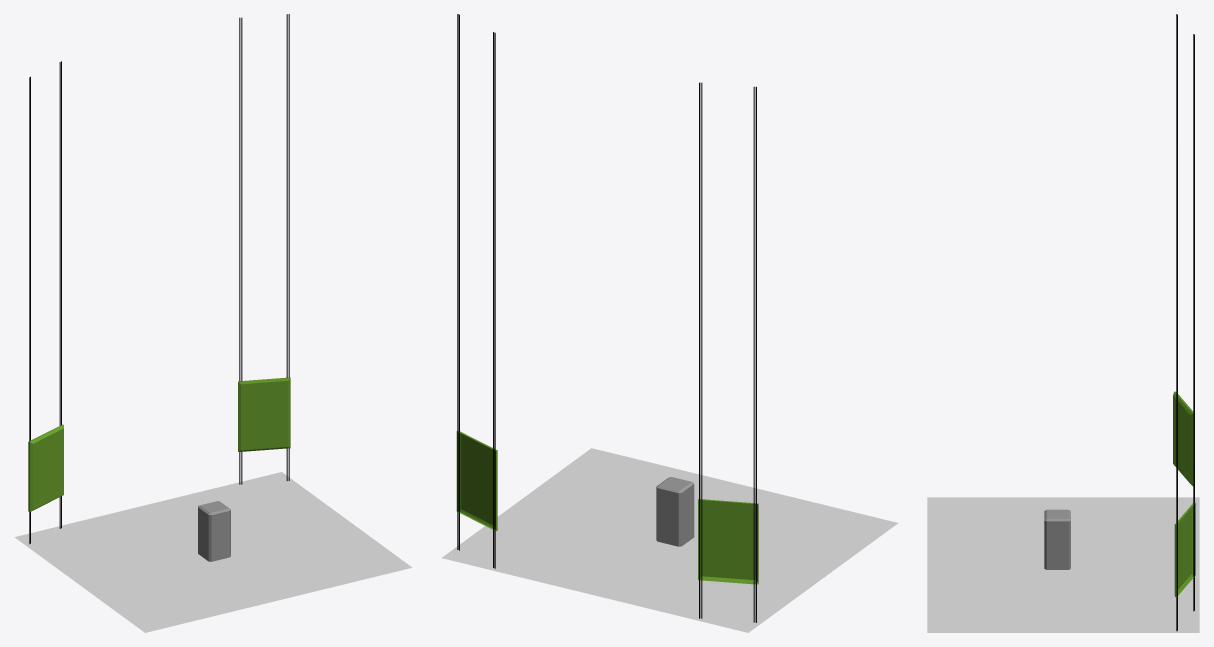
Rendered from Intro Scene.FBX.
3 renders of one model, left to right at view 1: azimuth 30°, elevation 25°; view 2: azimuth 150°, elevation 25°; view 3: azimuth 270°, elevation 25°, orthographic. The views are drawn at different scales.
Visible parts, largest first — view 1: Plane001, Box002, Box001, Pedestal, Cylinder005, Cylinder006, Cylinder008, Cylinder007, Cylinder003; view 2: Plane001, Box001, Box002, Pedestal, Cylinder005, Cylinder001, Cylinder002, Cylinder003, Cylinder004, Cylinder008; view 3: Plane001, Pedestal, Box001, Box002, Cylinder008, Cylinder006, Cylinder005, Cylinder007.
Part boxes in pixels (<box>): Plane001: <box>14,472,412,632</box>; Box002: <box>238,377,290,451</box>; Box001: <box>28,424,63,511</box>; Pedestal: <box>198,501,230,561</box>; Cylinder005: <box>239,17,240,484</box>; Cylinder006: <box>241,17,242,484</box>; Cylinder008: <box>288,14,289,480</box>; Cylinder007: <box>286,14,287,480</box>; Cylinder003: <box>59,62,60,528</box>; Plane001: <box>442,448,897,632</box>; Box001: <box>698,499,758,584</box>; Box002: <box>456,431,497,530</box>; Pedestal: <box>656,477,694,546</box>; Cylinder005: <box>494,32,495,568</box>; Cylinder001: <box>755,86,756,622</box>; Cylinder002: <box>753,86,754,622</box>; Cylinder003: <box>701,82,702,618</box>; Cylinder004: <box>699,82,700,618</box>; Cylinder008: <box>457,14,458,549</box>; Plane001: <box>927,497,1199,632</box>; Pedestal: <box>1044,509,1070,569</box>; Box001: <box>1173,391,1193,486</box>; Box002: <box>1174,502,1195,597</box>; Cylinder008: <box>1176,146,1177,631</box>; Cylinder006: <box>1193,126,1194,611</box>; Cylinder005: <box>1194,125,1194,610</box>; Cylinder007: <box>1177,145,1177,630</box>.
Bounding box in the file's own units: 144 × 240 × 122.
